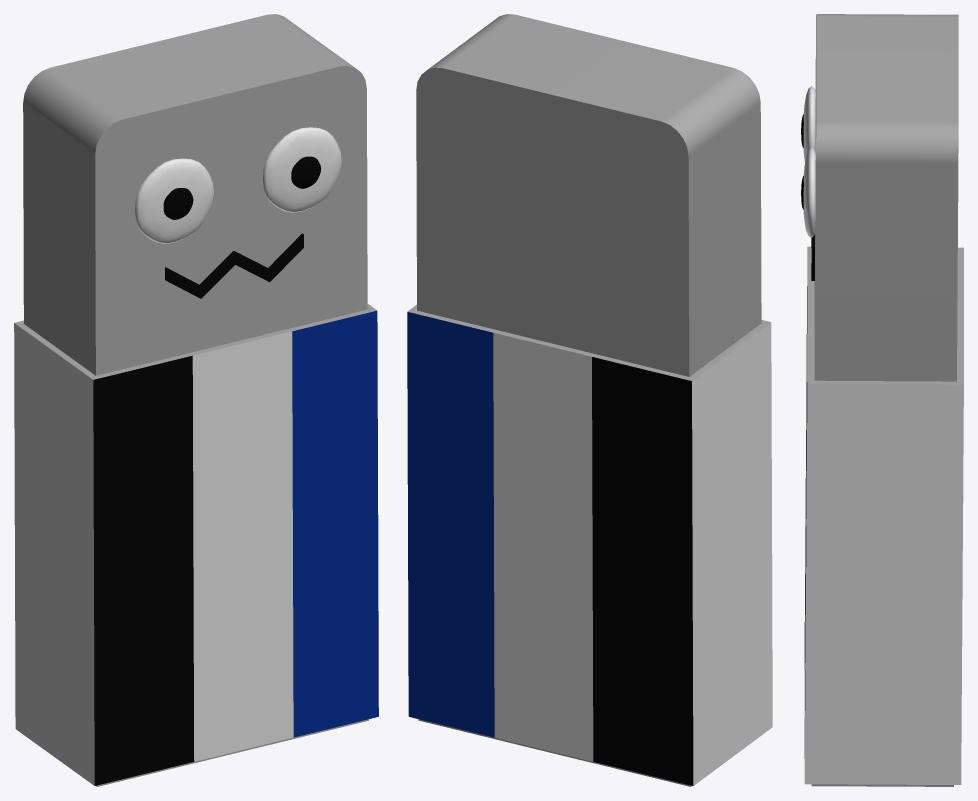
File: keshigomuokiagaru.fbx
The picture shows the model from 3 angles, left to right: view 1: azimuth 30°, elevation 25°; view 2: azimuth 150°, elevation 25°; view 3: azimuth 270°, elevation 25°; orthographic projection.
Visible parts, largest first — view 1: pCube3, pCylinder16, pCylinder17, pCube4, pCylinder19, pCylinder18; view 2: pCube3; view 3: pCube3, pCylinder16, pCylinder17.
Part boxes in pixels (x1,y1,x2,y2): pCube3: (14,14,378,786); pCylinder16: (262,127,341,212); pCylinder17: (135,158,214,243); pCube4: (165,233,303,298); pCylinder19: (291,156,320,188); pCylinder18: (163,188,193,219); pCube3: (407,14,772,786); pCube3: (804,14,963,786); pCylinder16: (803,147,815,237); pCylinder17: (803,86,815,161).
Bounding box in the file's own units: 25.24 × 56.01 × 12.68.
